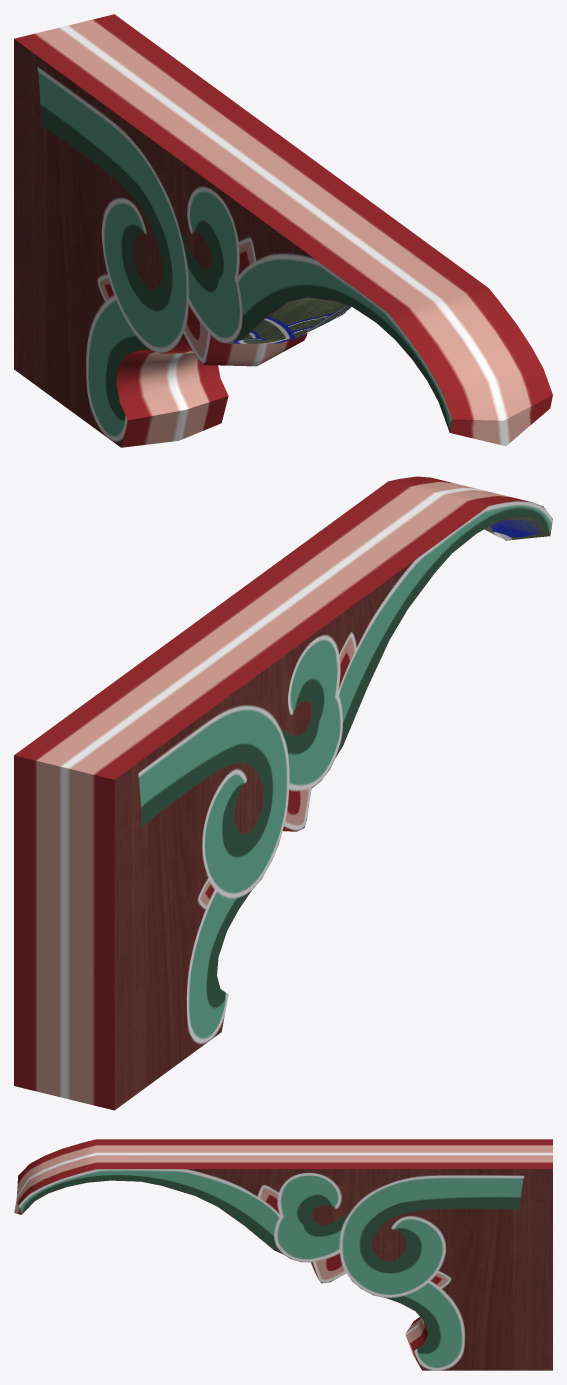
File: SM_Boaji02B.fbx
3 renders of one model, top to bottom at view 1: azimuth 30°, elevation 25°; view 2: azimuth 150°, elevation 25°; view 3: azimuth 270°, elevation 25°, orthographic. The views are drawn at different scales.
Parts seen in each view (by area): view 1: SM_Boaji02B; view 2: SM_Boaji02B; view 3: SM_Boaji02B.
Part boxes in pixels (<box>): SM_Boaji02B: <box>14,14,552,447</box>; SM_Boaji02B: <box>14,476,552,1110</box>; SM_Boaji02B: <box>14,1139,552,1370</box>.
Size of the model in its own units: 9.96 by 75.77 by 31.28.
